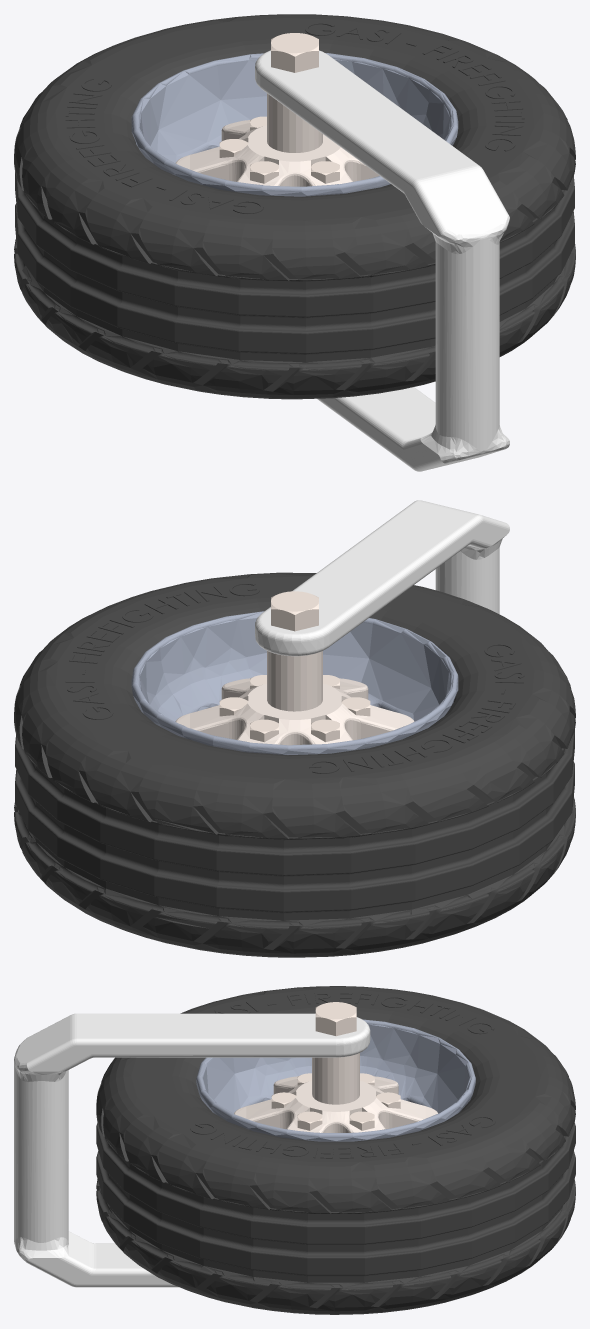
Rendered from nose_steer.glb.
3 views of the same model, one above another, from view 1: azimuth 30°, elevation 25°; view 2: azimuth 150°, elevation 25°; view 3: azimuth 270°, elevation 25° (orthographic). The views are drawn at different scales.
Parts seen in each view (by area): view 1: NAUO24_2, NAUO21_1, NAUO24_3, NAUO25_4, NAUO33_6; view 2: NAUO24_2, NAUO24_3, NAUO21_1, NAUO25_4, NAUO33_6; view 3: NAUO24_2, NAUO21_1, NAUO24_3, NAUO25_4, NAUO33_6, NAUO40_13, NAUO35_8.
Part boxes in pixels (box(x1,y1,x2,y2)): NAUO24_2: box(14, 14, 575, 399); NAUO21_1: box(255, 50, 509, 471); NAUO24_3: box(131, 53, 458, 196); NAUO25_4: box(175, 93, 379, 186); NAUO33_6: box(271, 33, 318, 72); NAUO24_2: box(14, 572, 575, 957); NAUO24_3: box(131, 611, 458, 754); NAUO21_1: box(255, 500, 509, 656); NAUO25_4: box(175, 651, 414, 745); NAUO33_6: box(271, 591, 318, 631); NAUO24_2: box(96, 986, 575, 1314); NAUO21_1: box(14, 1013, 370, 1287); NAUO24_3: box(196, 1019, 475, 1141); NAUO25_4: box(234, 1053, 438, 1132); NAUO33_6: box(315, 1002, 356, 1036); NAUO40_13: box(349, 1111, 374, 1130); NAUO35_8: box(297, 1111, 322, 1130).
Size of the model in its own units: 0.35 by 0.225 by 0.41.
